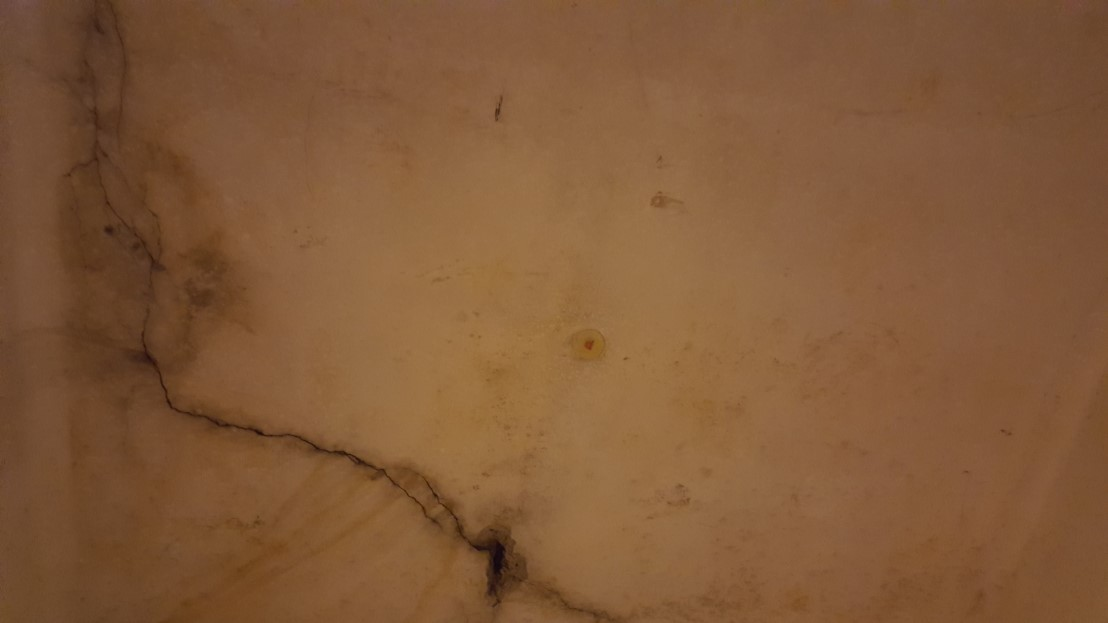Crack: (52, 0, 640, 623)
